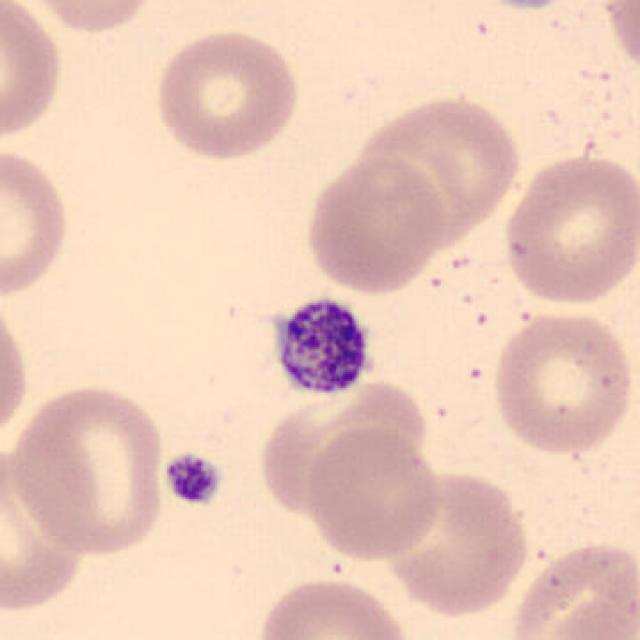Platelets: (265, 292, 379, 406), (160, 450, 226, 508)
RBC: (3, 379, 170, 561), (350, 88, 524, 247), (254, 368, 430, 522), (379, 465, 533, 619), (487, 305, 637, 458), (502, 148, 638, 309), (151, 25, 304, 164), (300, 154, 448, 296), (302, 423, 444, 563), (0, 436, 98, 622), (506, 536, 640, 640), (0, 143, 73, 301), (255, 573, 412, 640), (0, 0, 68, 148), (0, 293, 34, 455), (22, 0, 164, 37), (542, 592, 638, 640), (599, 0, 640, 79), (468, 0, 593, 12)
